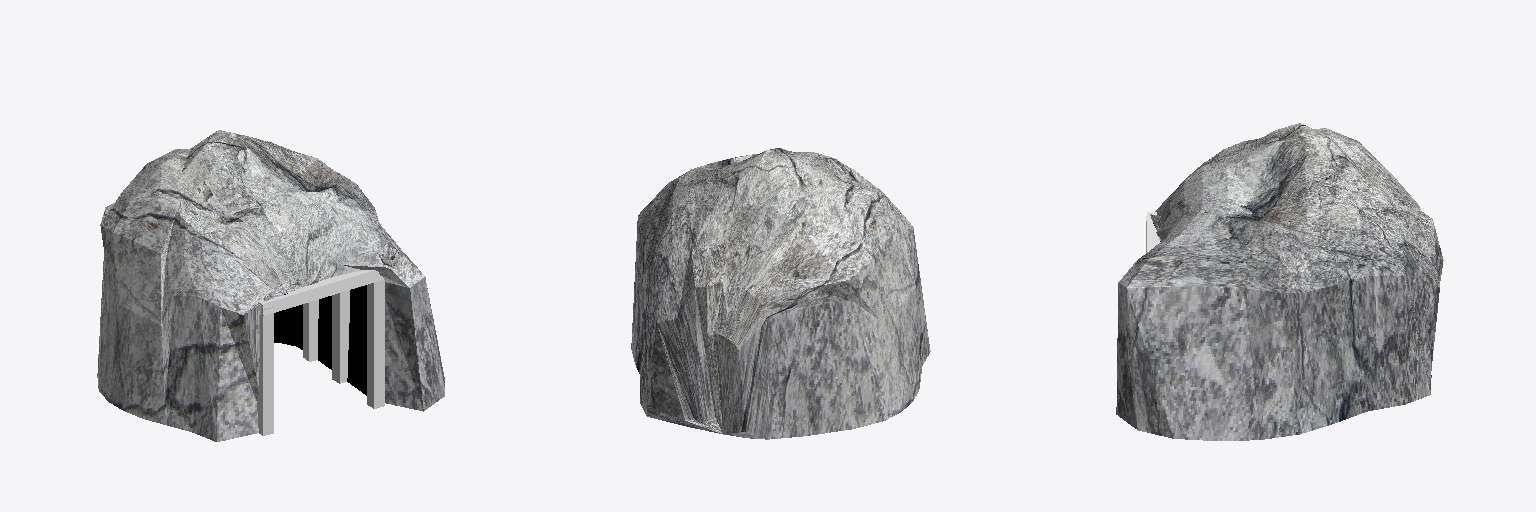
3 renders of one model, left to right at view 1: azimuth 30°, elevation 25°; view 2: azimuth 150°, elevation 25°; view 3: azimuth 270°, elevation 25°, orthographic.
Visible parts, largest first — view 1: Group07; view 2: Group07; view 3: Group07.
Part boxes in pixels (x1,y1,x2,y2): Group07: (97, 130, 444, 441); Group07: (631, 148, 930, 439); Group07: (1116, 123, 1443, 440).
Bounding box in the file's own units: 293 × 233 × 296.
Materials: 3 (1 with a texture image).